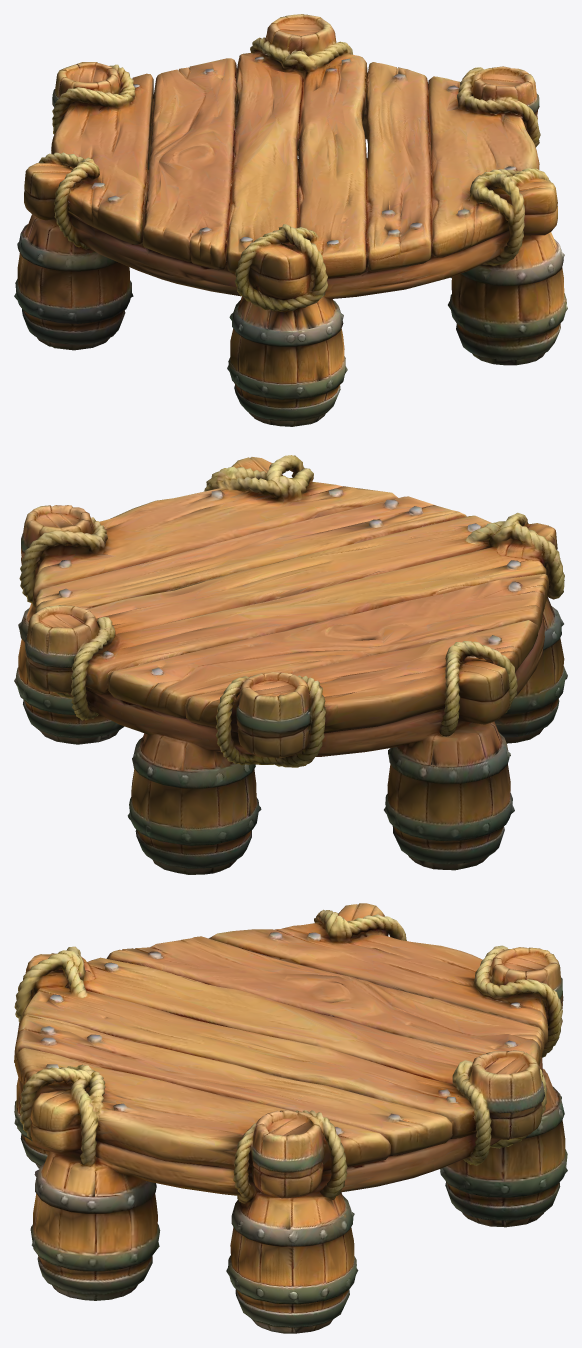
Rendered from plat_alti.glb.
The picture shows the model from 3 angles, top to bottom: view 1: azimuth 30°, elevation 25°; view 2: azimuth 150°, elevation 25°; view 3: azimuth 270°, elevation 25°; orthographic projection. The views are drawn at different scales.
Parts seen in each view (by area): view 1: tripo_node_89894c35-bf0e-4b6b-a5b0-7b2271f97a48; view 2: tripo_node_89894c35-bf0e-4b6b-a5b0-7b2271f97a48; view 3: tripo_node_89894c35-bf0e-4b6b-a5b0-7b2271f97a48.
Part boxes in pixels (x1,y1,x2,y2): tripo_node_89894c35-bf0e-4b6b-a5b0-7b2271f97a48: [14, 14, 567, 426]; tripo_node_89894c35-bf0e-4b6b-a5b0-7b2271f97a48: [14, 455, 567, 874]; tripo_node_89894c35-bf0e-4b6b-a5b0-7b2271f97a48: [14, 903, 567, 1333].
Bounding box in the file's own units: 0.9794 × 0.3792 × 0.9022.
Materials: 1 (1 with a texture image).
